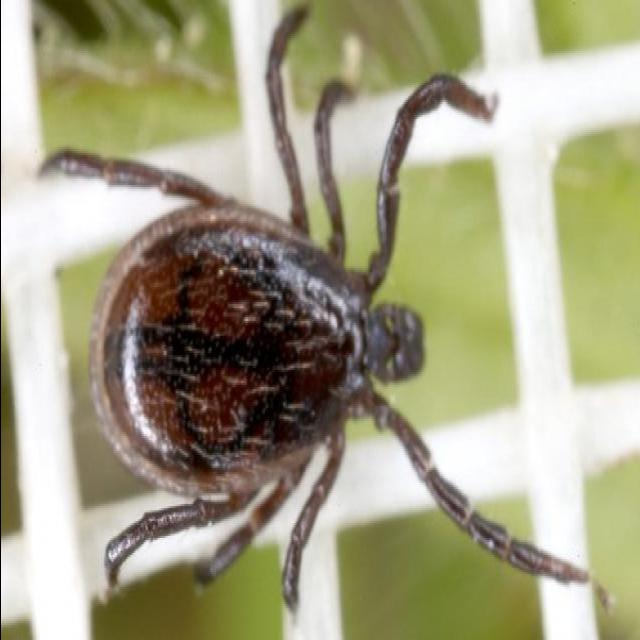Ixodes Ricinus-M: (41, 4, 588, 614)
